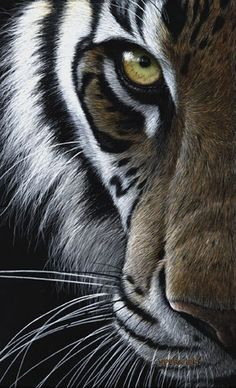Tigrew: (9, 11, 232, 351)
